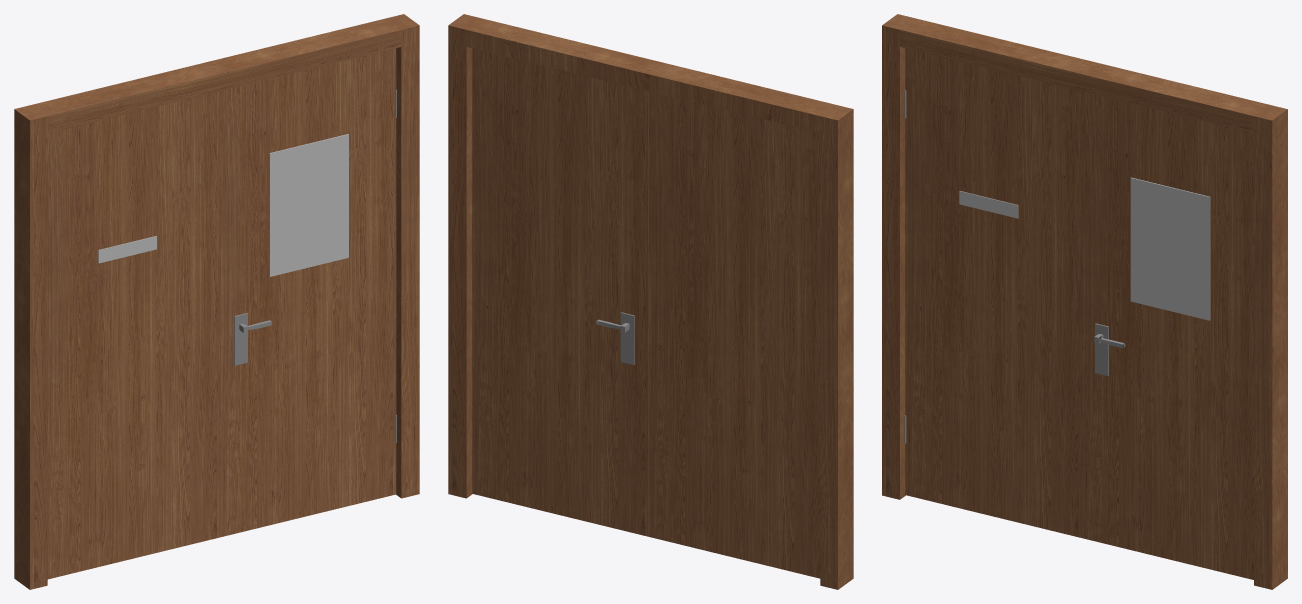
The model's file is Door 3.FBX.
3 renders of one model, left to right at view 1: azimuth 30°, elevation 25°; view 2: azimuth 150°, elevation 25°; view 3: azimuth 330°, elevation 25°, orthographic.
Visible parts, largest first — view 1: Door 1, door 1 B, door frame; view 2: Door 1, door 1 B, door frame; view 3: door 1 B, Door 1, door frame.
Part boxes in pixels (bbox=[...]): Door 1: bbox=[220, 48, 396, 537]; door 1 B: bbox=[47, 91, 220, 579]; door frame: bbox=[14, 14, 419, 589]; Door 1: bbox=[472, 48, 648, 536]; door 1 B: bbox=[648, 91, 820, 578]; door frame: bbox=[448, 14, 853, 589]; door 1 B: bbox=[904, 48, 1081, 537]; Door 1: bbox=[1082, 91, 1253, 579]; door frame: bbox=[882, 14, 1287, 589].
Bounding box in the file's own units: 184 × 212 × 13.53.
